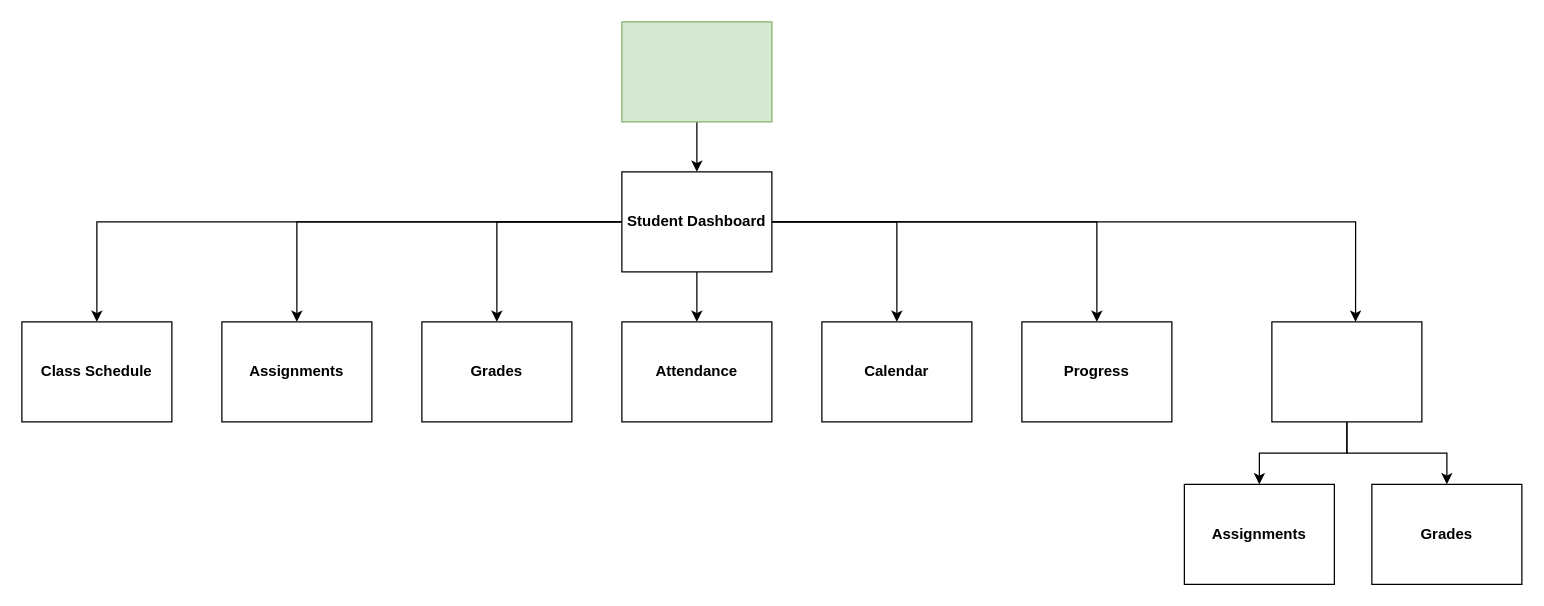
Image size: 1544x606. Some labels were removed from this diagram. The shapes that lost their labels are listed below. From the top down, each one's centre as x and y in pixels, then its label:
At [696,71]: "Login".
At [1346,371]: "Course Page".
